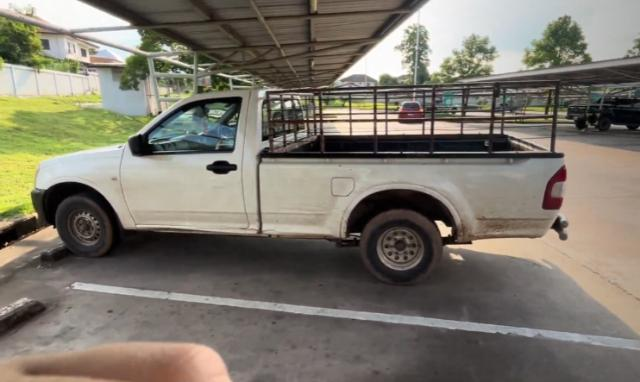pickup-truck: (29, 90, 573, 286)
